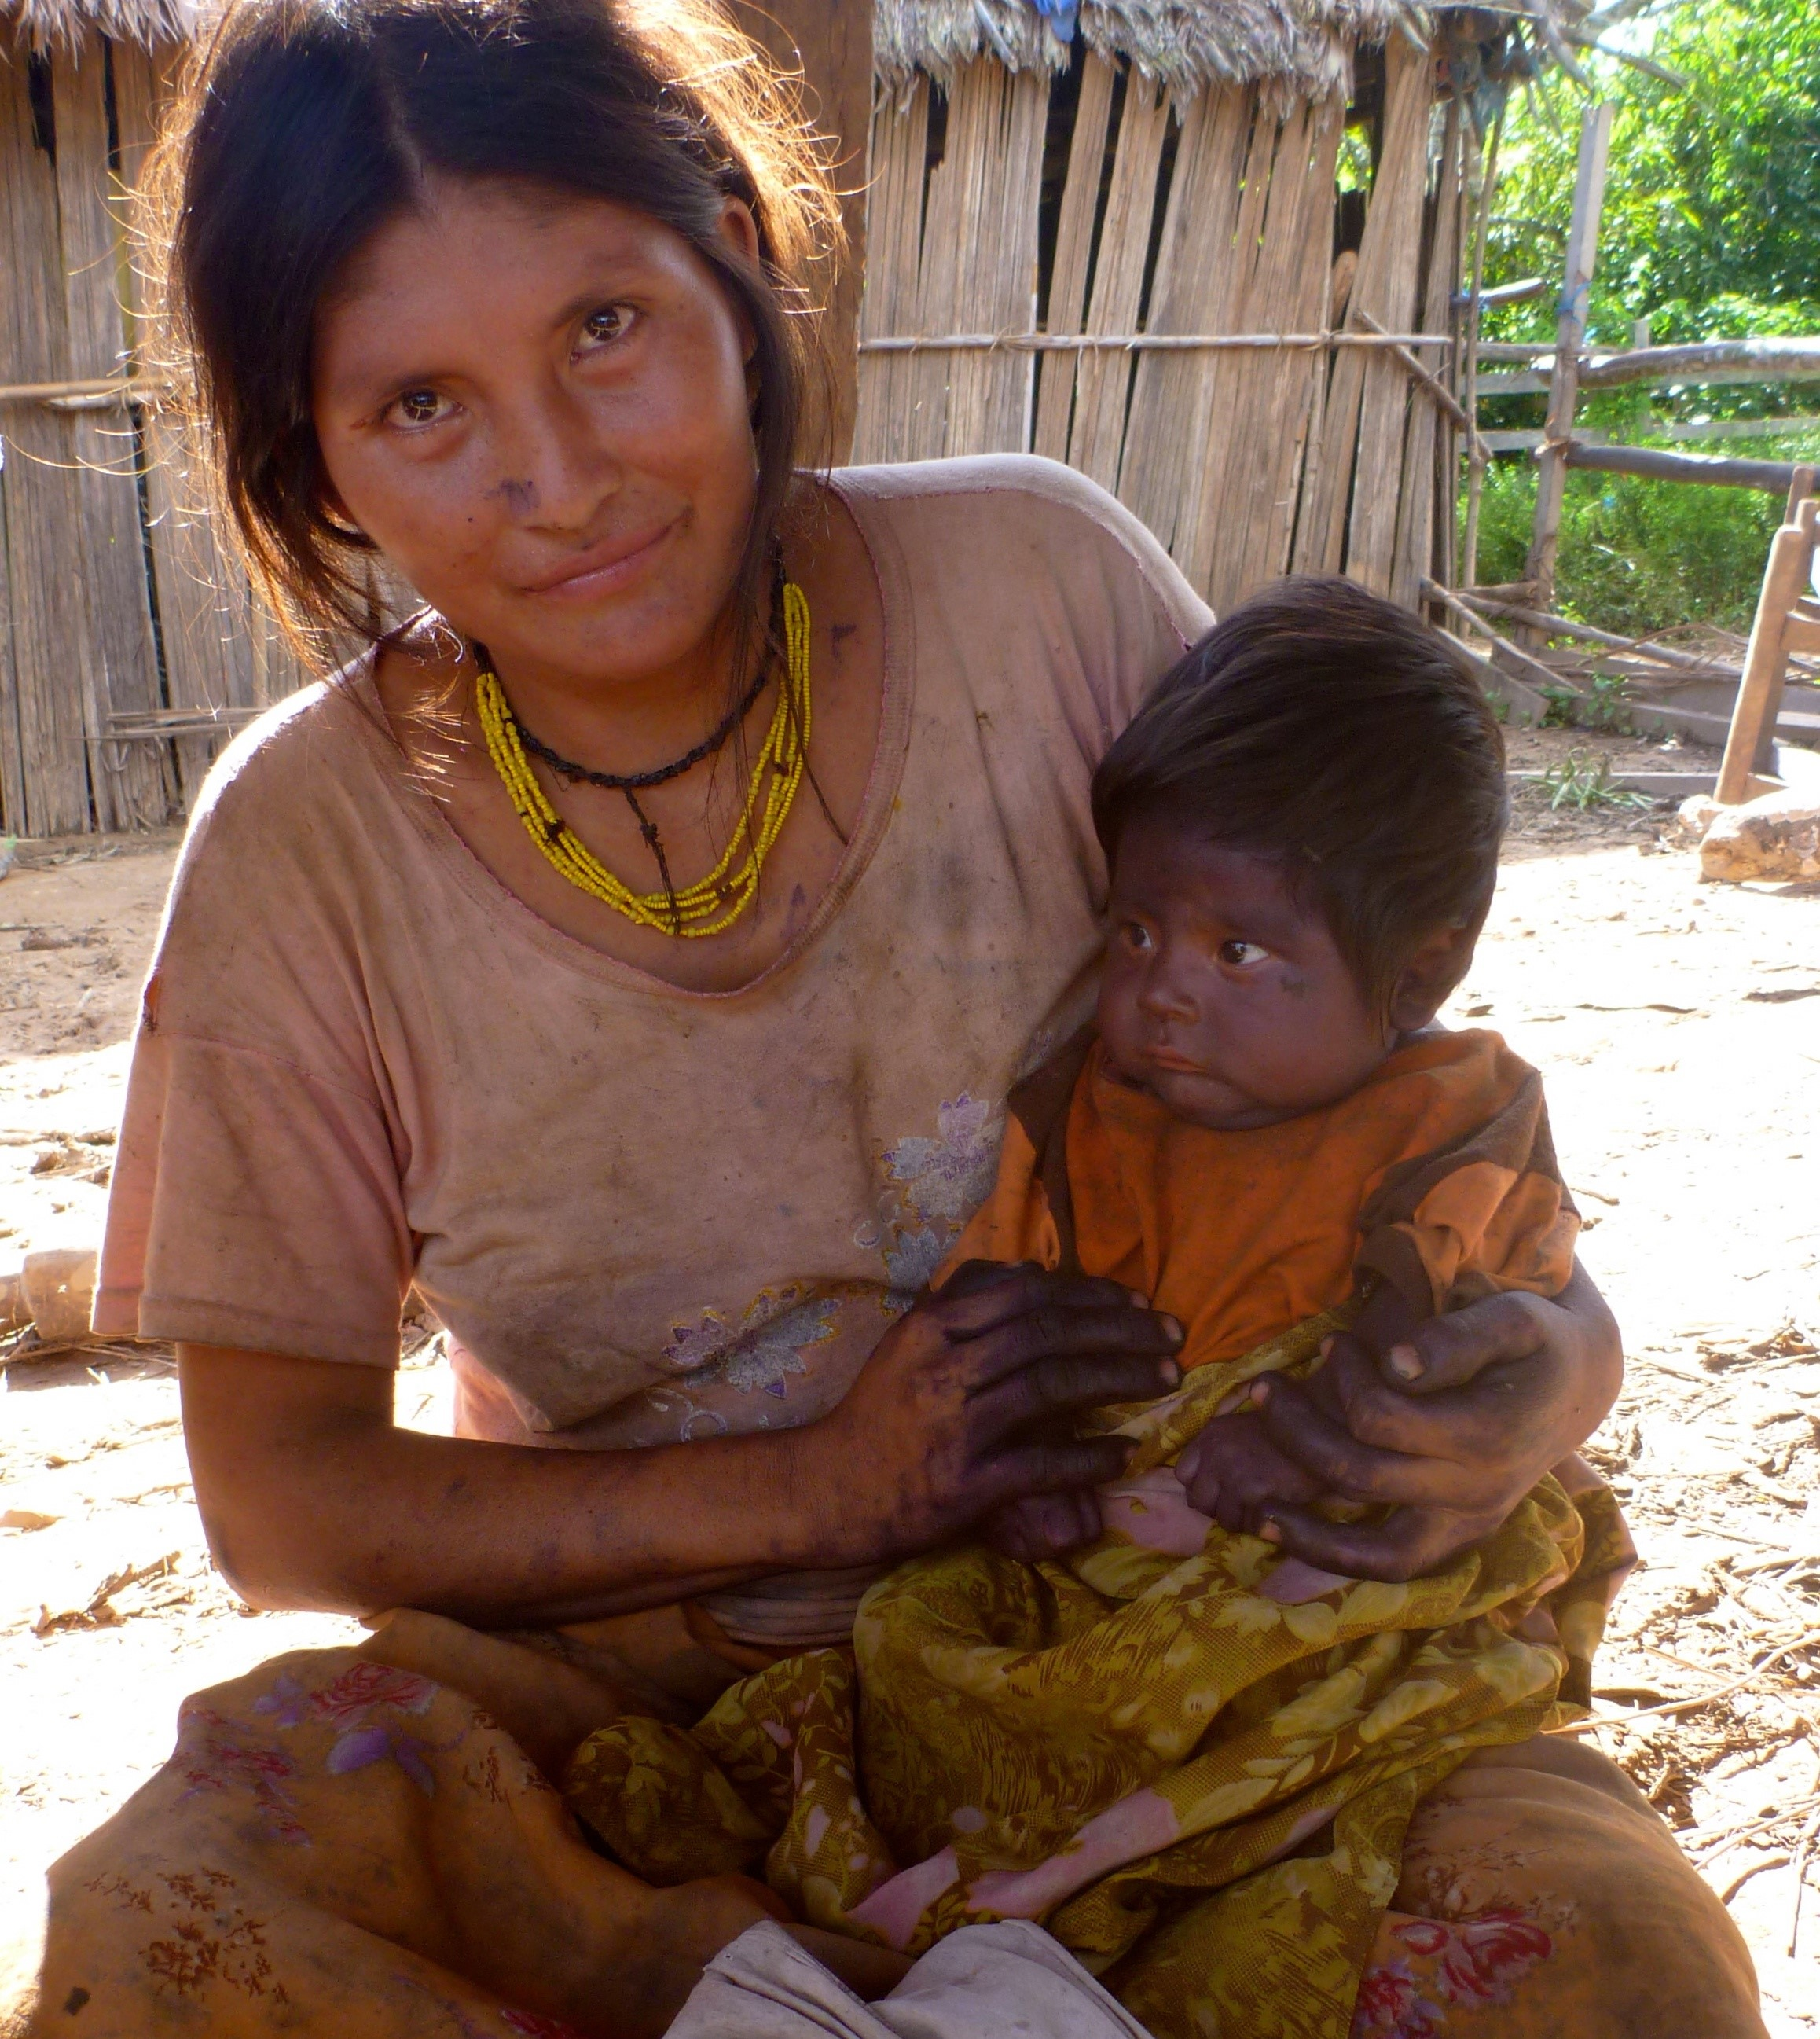face_no_mask: (273, 43, 791, 689), (1084, 588, 1507, 1130)
